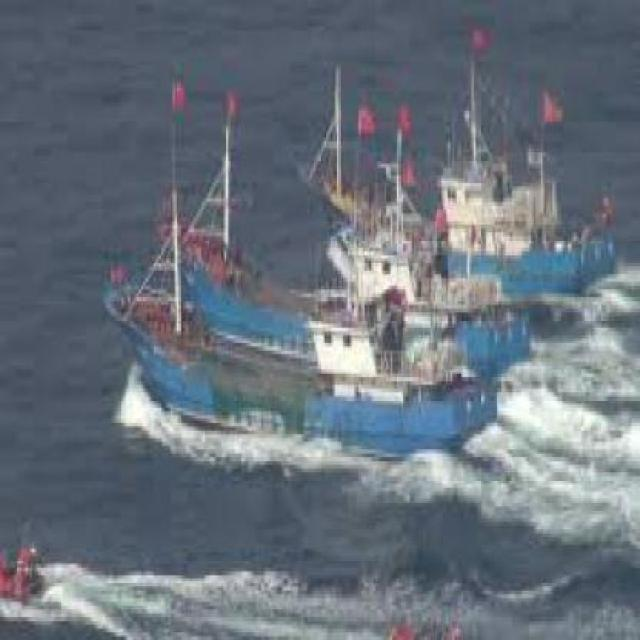fish-b: (309, 9, 635, 321), (91, 260, 514, 477)
